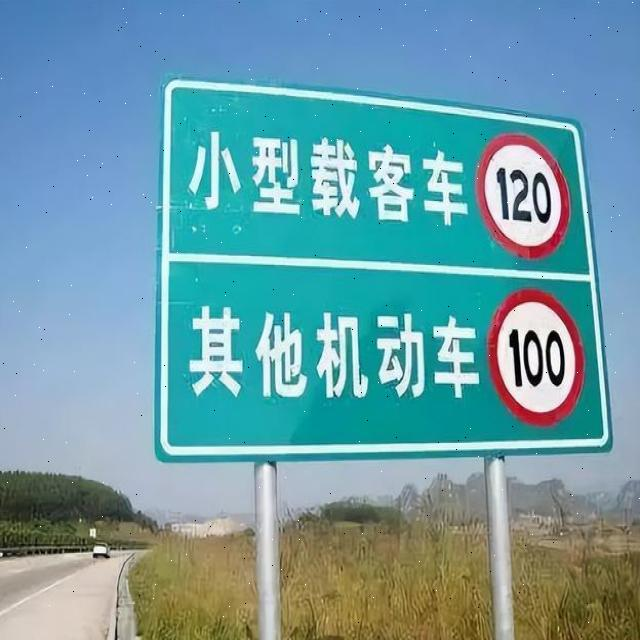speed limit 100: (485, 290, 584, 428)
speed limit 120: (477, 133, 571, 259)
